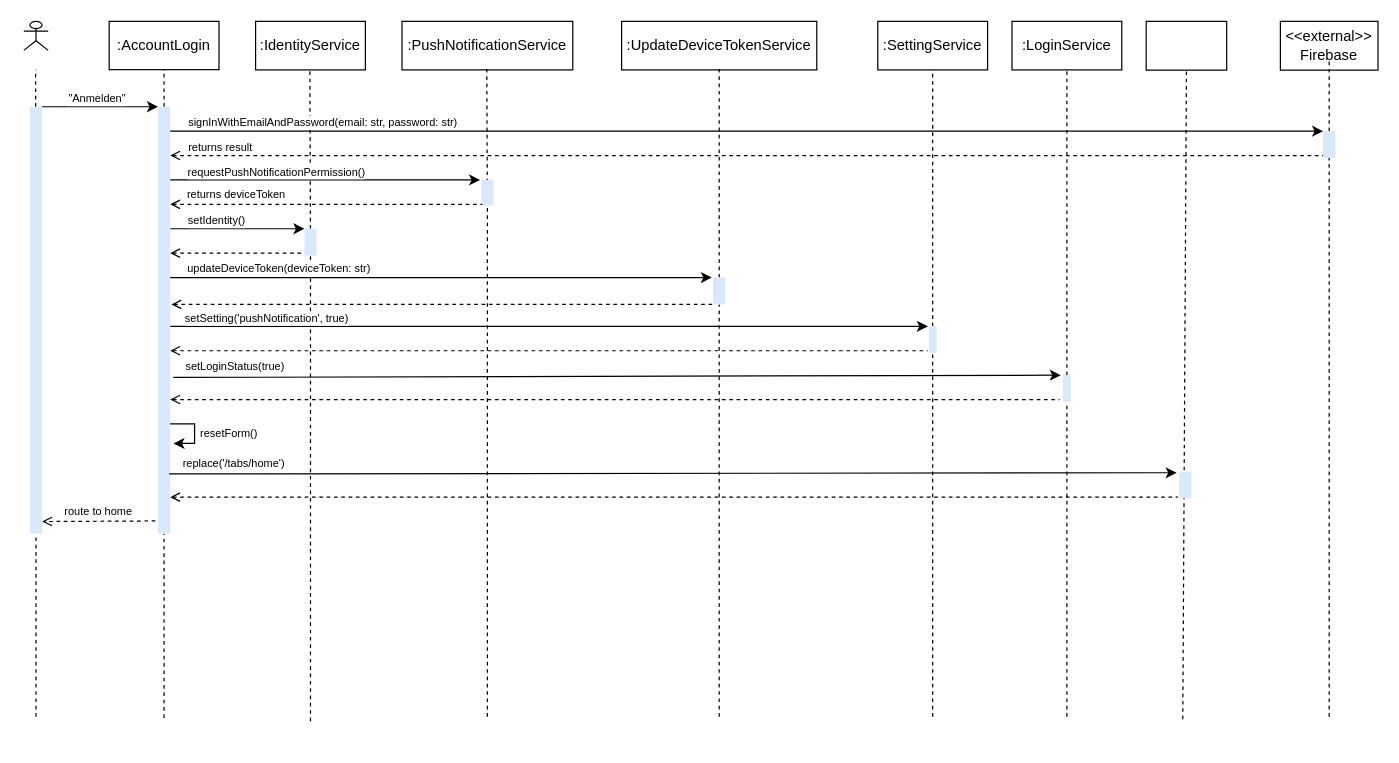
Some shapes in this 1399 by 763 pixel diagram are drawn without their labels. Each missing label, with the box of its shape:
:Router: (1145, 20, 1227, 70)
User: (23, 20, 48, 50)
